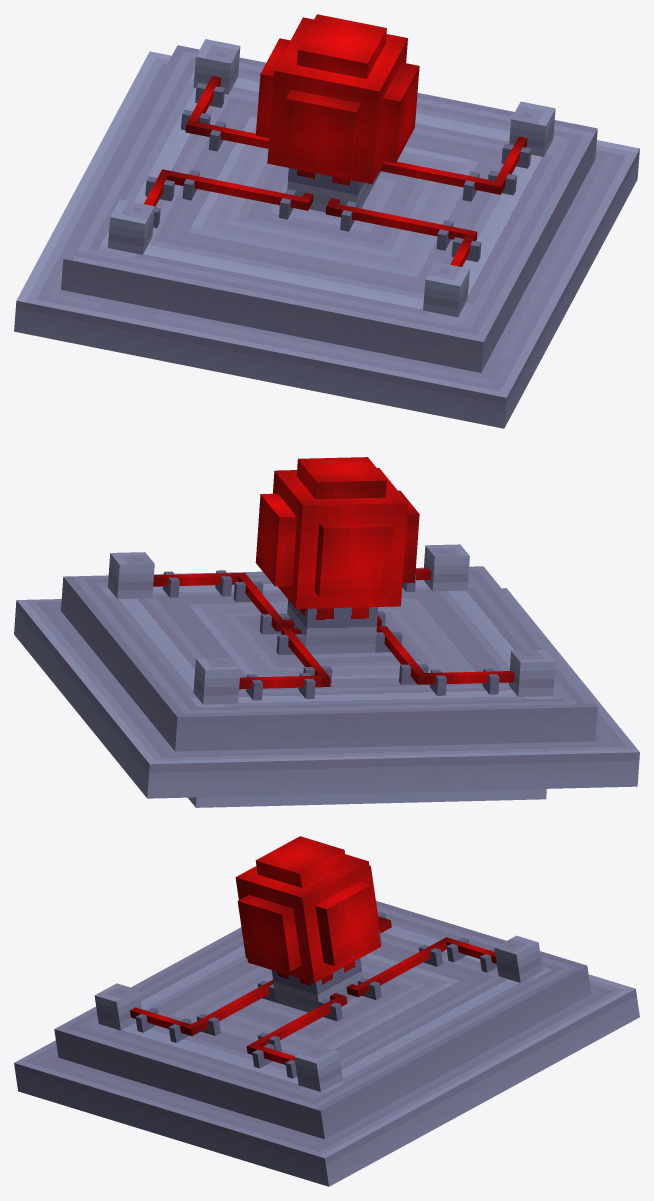
File: Laser Inventory Node MK2.obj
3 views of the same model, one above another, from view 1: azimuth 30°, elevation 25°; view 2: azimuth 150°, elevation 25°; view 3: azimuth 270°, elevation 25° (orthographic). The views are drawn at different scales.
Visible parts, largest first — view 1: Cube, cube, Redstone Wire, Wire Support Side, Wire Support Base; view 2: Cube, cube, Redstone Wire, Wire Support Side, Wire Support Base; view 3: Cube, cube, Redstone Wire, Wire Support Side, Wire Support Base.
Part boxes in pixels (x1,y1,x2,y2): Cube: [14, 14, 639, 428]; cube: [267, 17, 407, 184]; Redstone Wire: [144, 76, 527, 266]; Wire Support Side: [145, 83, 531, 254]; Wire Support Base: [145, 95, 530, 262]; Cube: [14, 457, 639, 807]; cube: [273, 468, 407, 608]; Redstone Wire: [153, 568, 514, 689]; Wire Support Side: [163, 570, 499, 691]; Wire Support Base: [162, 583, 498, 700]; Cube: [14, 836, 639, 1186]; cube: [235, 854, 380, 982]; Redstone Wire: [130, 916, 496, 1064]; Wire Support Side: [135, 912, 494, 1071]; Wire Support Base: [136, 938, 496, 1078].
Size of the model in its own units: 0.464 by 0.2227 by 0.4631.
Materials: 4 (3 with a texture image).
